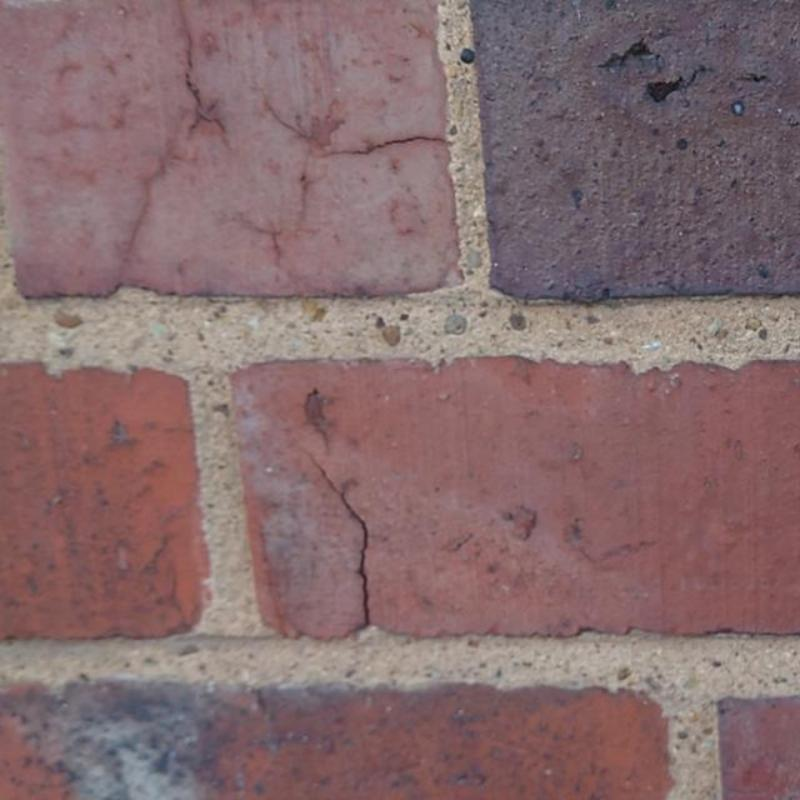pothole: (312, 458, 370, 631), (183, 4, 228, 141), (331, 136, 446, 156)
